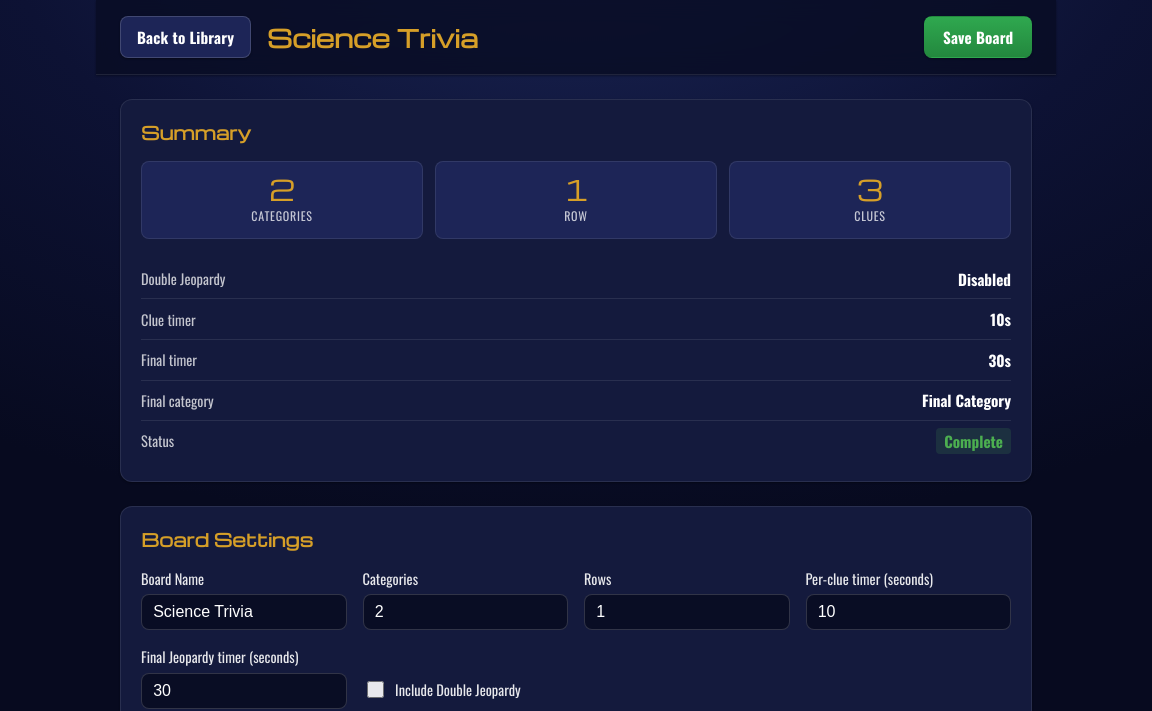
Test: BoardEditor › rejects invalid timer values by firing the PUT and surfacing the server 400
Replace the text in the field labelled "Per-clue timer (seconds)" with "abc" at (908, 612), box left=806, top=594, right=1011, bottom=630
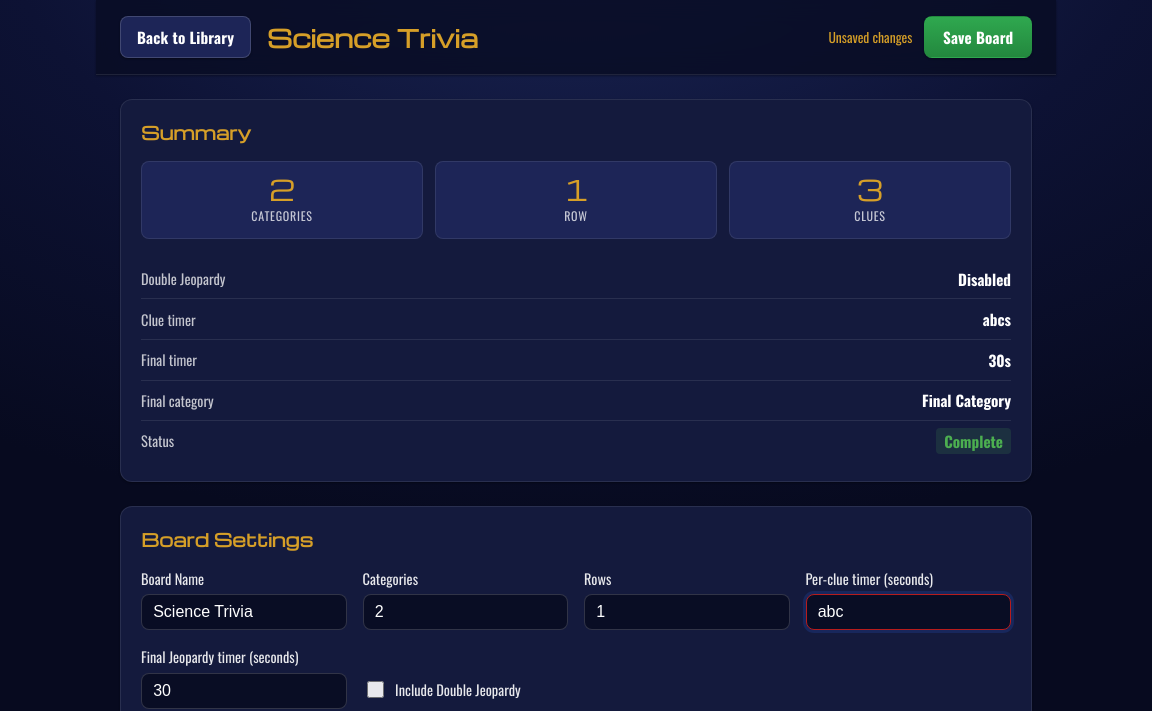
Click the button "Save Board" at (978, 37), box left=924, top=16, right=1032, bottom=58
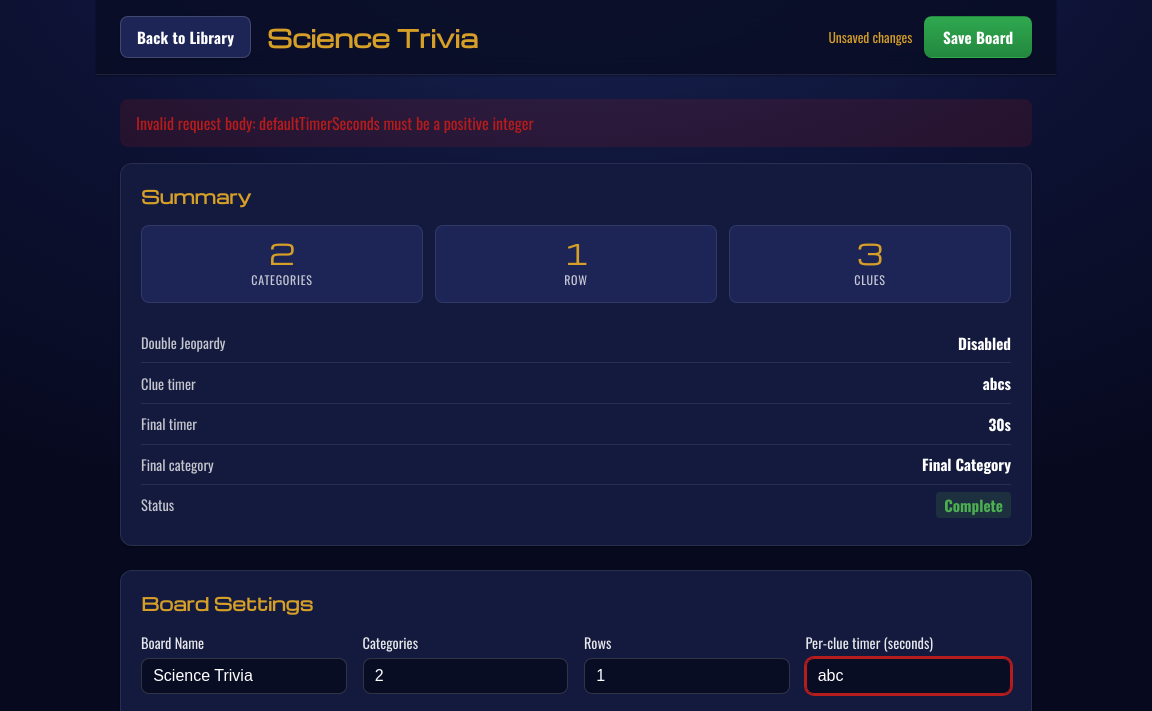
Result: the message reads "Invalid request body: defaultTimerSeconds must be a positive integer" at left=136, top=111, right=534, bottom=135
